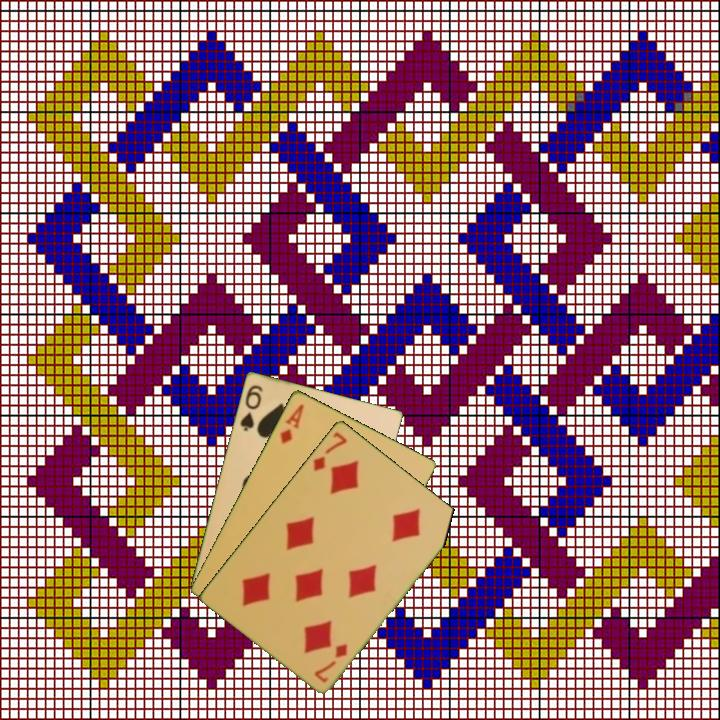6s: (236, 381, 266, 434)
7d: (309, 428, 350, 474), (311, 640, 351, 686)
Ad: (276, 400, 307, 447)
